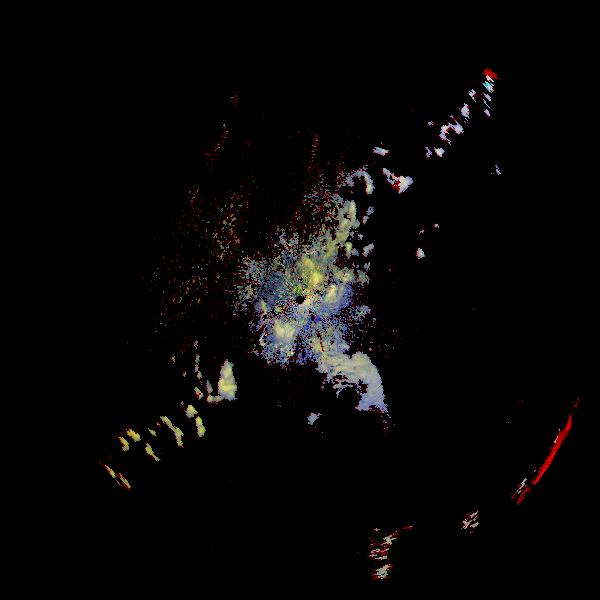roost: (169, 77, 397, 305), (240, 322, 414, 496)
